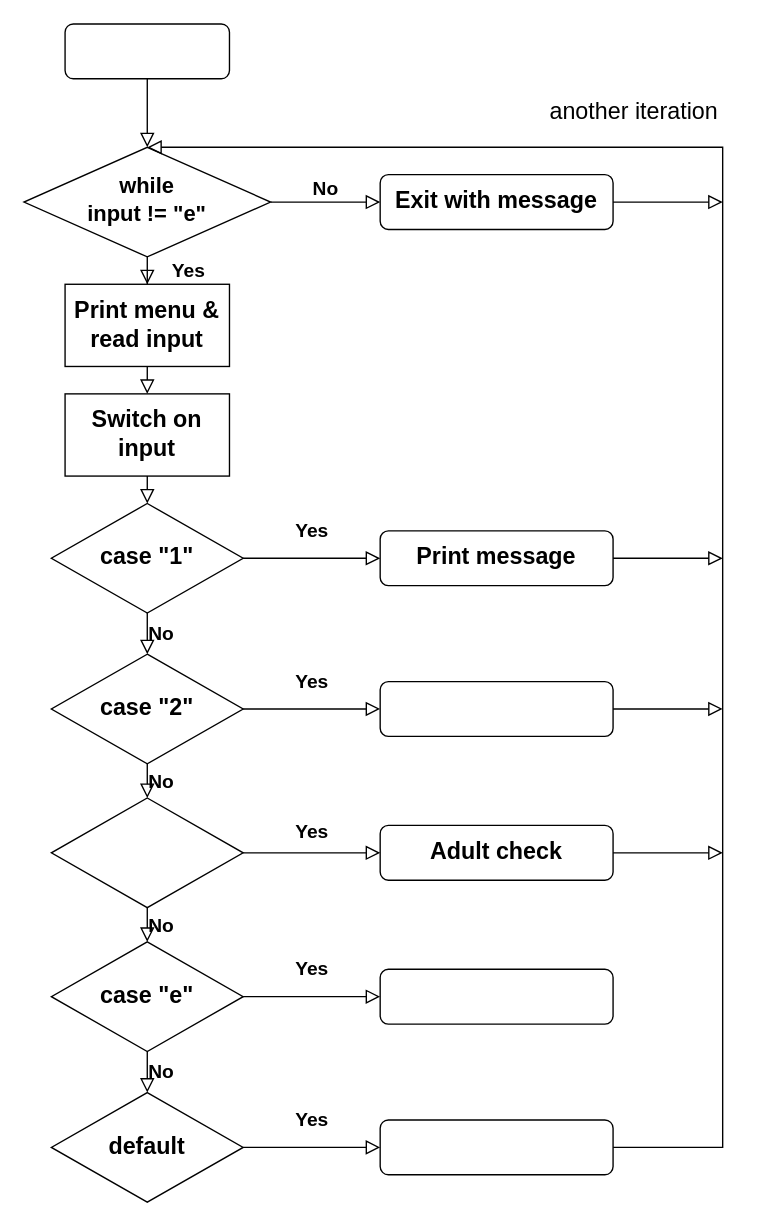
The diagram is 760 pixels wide and 1226 high, and some of its shapes have lost their labels. The shapes that lost their labels are listed below. From the top down, each one's centre as x and y in pixels, then its label:
[146,51]: Start
[496,708]: Random number
[146,852]: case "3"
[496,996]: Exit
[496,1147]: Error message
